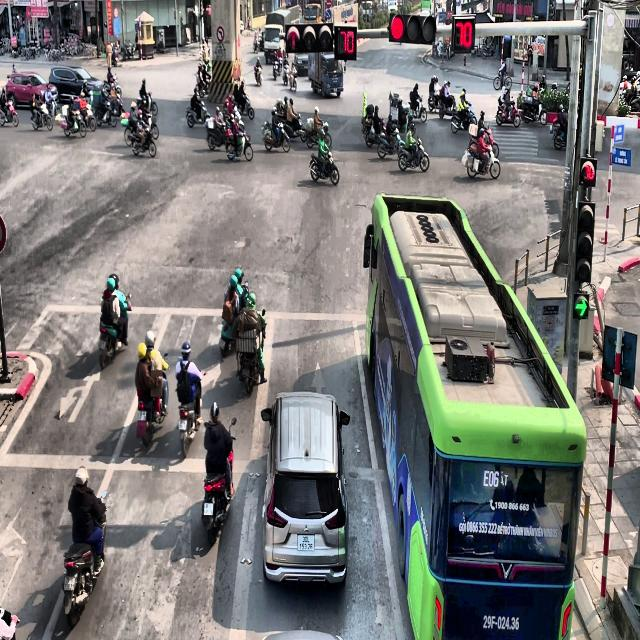BUS: (363, 192, 587, 638)
CAR: (260, 390, 350, 585), (48, 66, 104, 102), (5, 72, 58, 108)
MOTORBIKE: (62, 490, 107, 629), (202, 418, 236, 545), (136, 352, 169, 446), (234, 308, 266, 394), (98, 293, 132, 370), (177, 370, 206, 458), (219, 282, 249, 358), (466, 139, 501, 180), (125, 119, 156, 157), (398, 136, 429, 172), (310, 150, 340, 186), (225, 126, 253, 161), (262, 120, 290, 153), (73, 95, 96, 132), (60, 105, 86, 137), (495, 96, 521, 128), (0, 87, 19, 127), (30, 98, 53, 131), (451, 103, 476, 133), (205, 115, 226, 150), (306, 121, 332, 149), (377, 130, 401, 159), (364, 118, 388, 147), (186, 100, 210, 128), (550, 115, 568, 150), (95, 99, 116, 127), (233, 92, 254, 120), (136, 92, 158, 118), (408, 95, 427, 123), (438, 93, 456, 119), (493, 67, 512, 90), (428, 88, 441, 112), (288, 63, 298, 91), (271, 52, 280, 80), (253, 64, 263, 86)
TRAFFIC_LIGHT: (574, 199, 594, 283), (388, 11, 437, 44), (284, 22, 334, 53), (334, 25, 357, 60), (579, 156, 597, 186)
